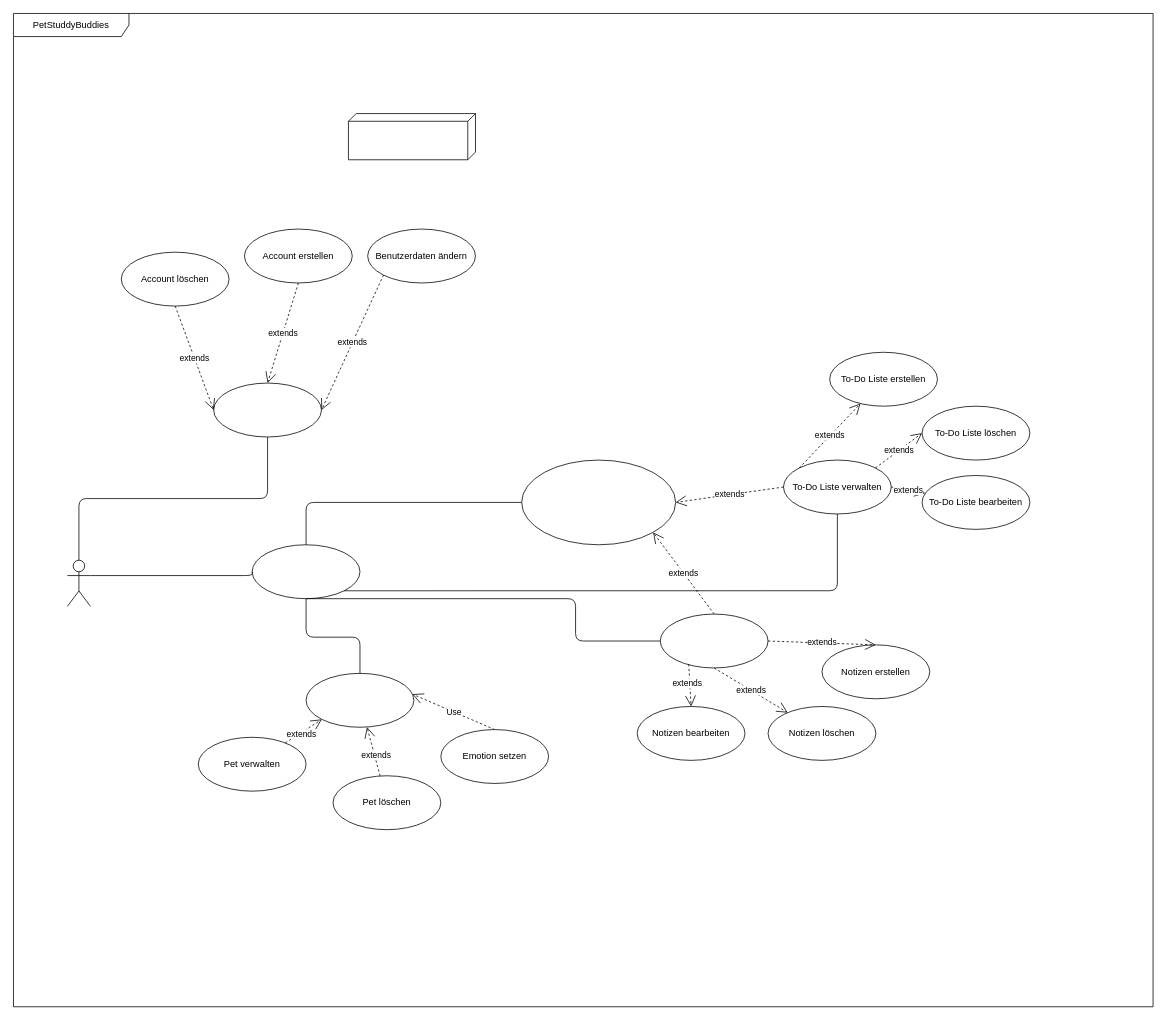
Some shapes in this 1167 by 1020 pixel diagram are drawn without their labels. Each missing label, with the centre of its shape:
Account verwalten: the point at 267,409
in Account einloggen: the point at 305,571
Inhalte an andere Nutzer/User teilen/freigeben/zuteilen: the point at 598,502
Notizen verwalten: the point at 714,640
Pet erstellen: the point at 359,700
User: the point at 78,582
Ziele erreicht? -->Bedigung: the point at 411,136
